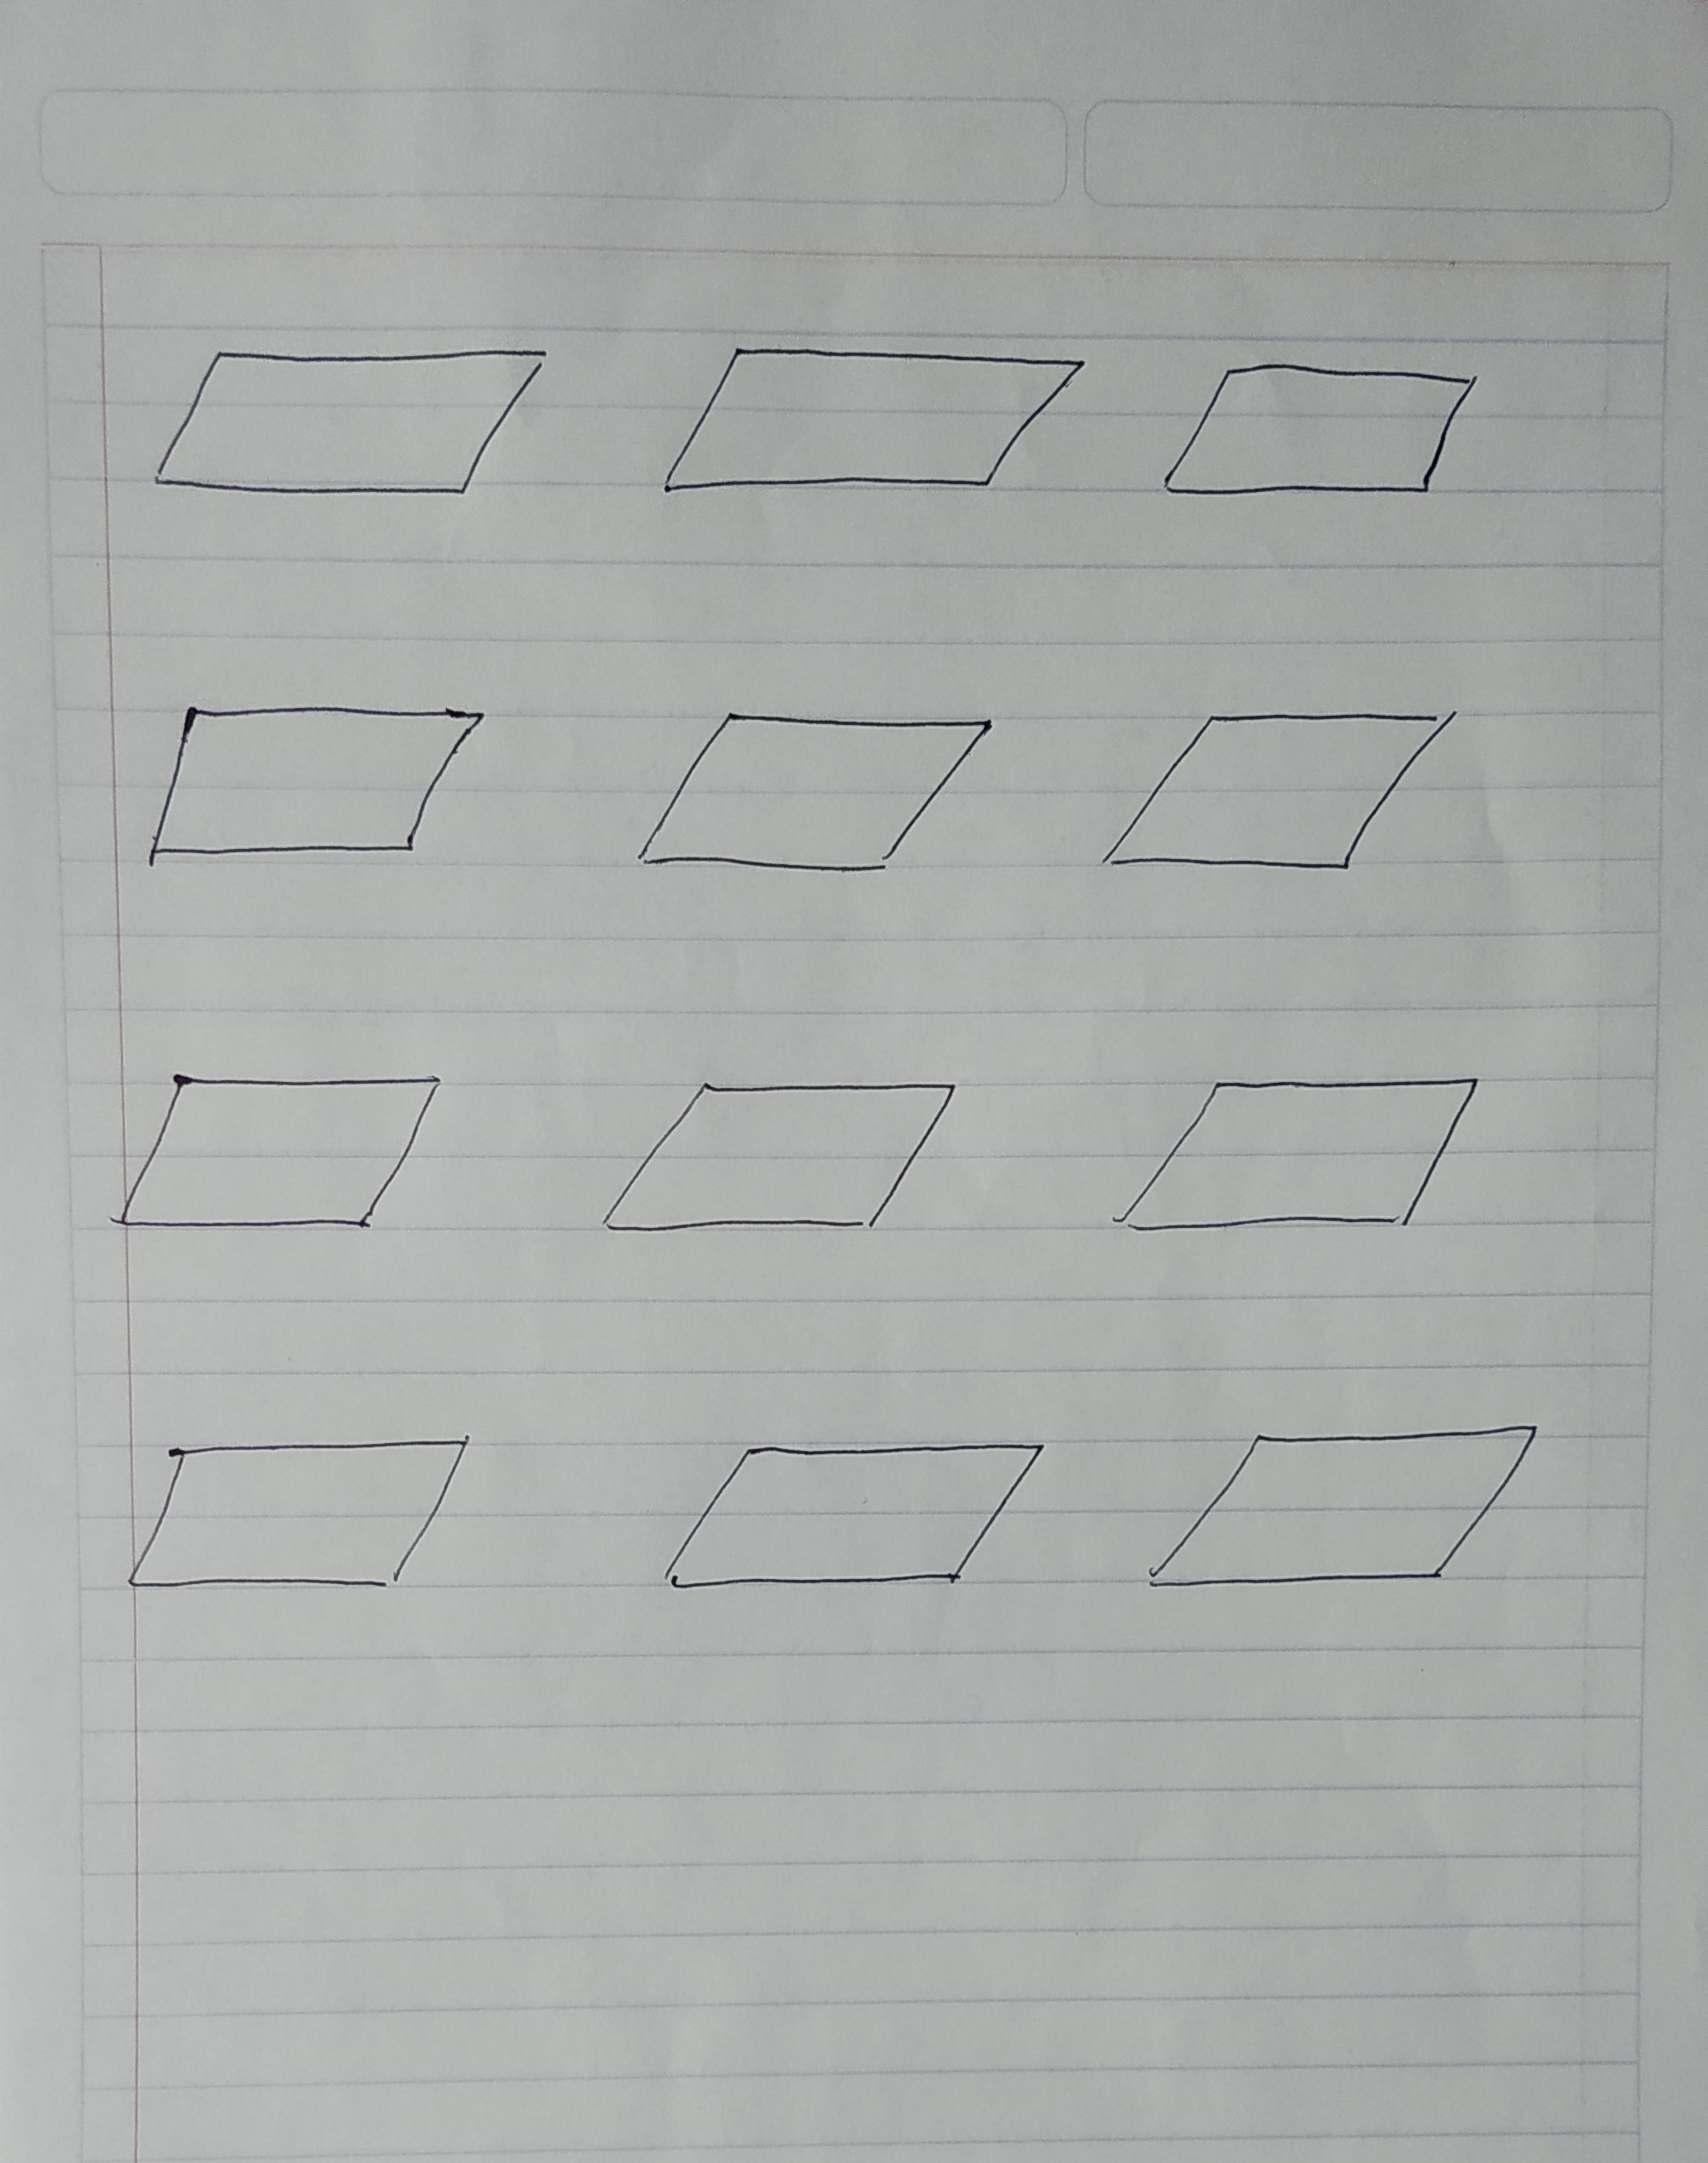process: (651, 335, 1090, 509), (1139, 1417, 1552, 1594), (653, 1424, 1053, 1605), (146, 334, 551, 511), (1108, 1064, 1490, 1247), (593, 1064, 971, 1247), (135, 692, 499, 880), (632, 704, 997, 890), (112, 1424, 499, 1598), (102, 1057, 453, 1245), (1092, 709, 1464, 883), (1155, 346, 1485, 528)
